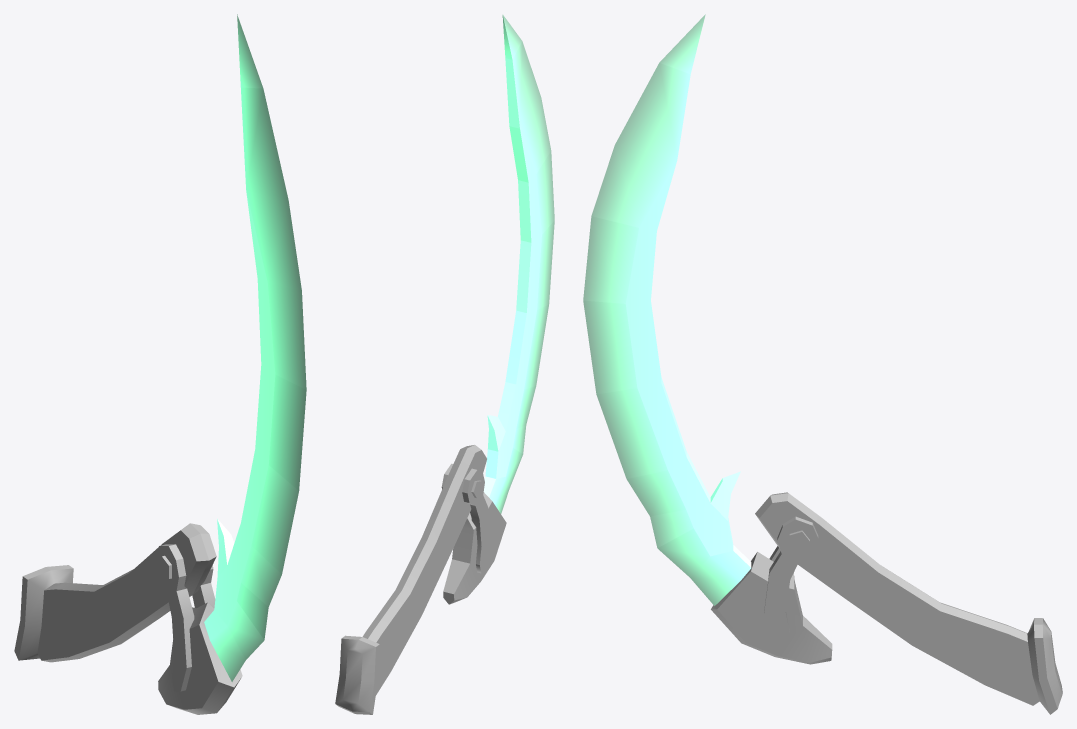
File: SM_Wep_Dagger_03.fbx
3 views of the same model, side by side, from view 1: azimuth 30°, elevation 25°; view 2: azimuth 150°, elevation 25°; view 3: azimuth 270°, elevation 25° (orthographic). The views are drawn at different scales.
Parts seen in each view (by area): view 1: SM_Wep_Dagger_03; view 2: SM_Wep_Dagger_03; view 3: SM_Wep_Dagger_03.
Boxes of the visible parts, box(x1,y1,x2,y2) form: SM_Wep_Dagger_03: box(14, 14, 306, 714); SM_Wep_Dagger_03: box(335, 14, 554, 714); SM_Wep_Dagger_03: box(583, 14, 1062, 714).
Size of the model in its own units: 2.83 by 46.28 by 28.97.
